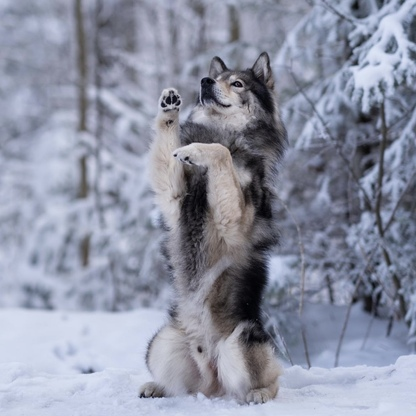husky: (133, 48, 289, 409)
